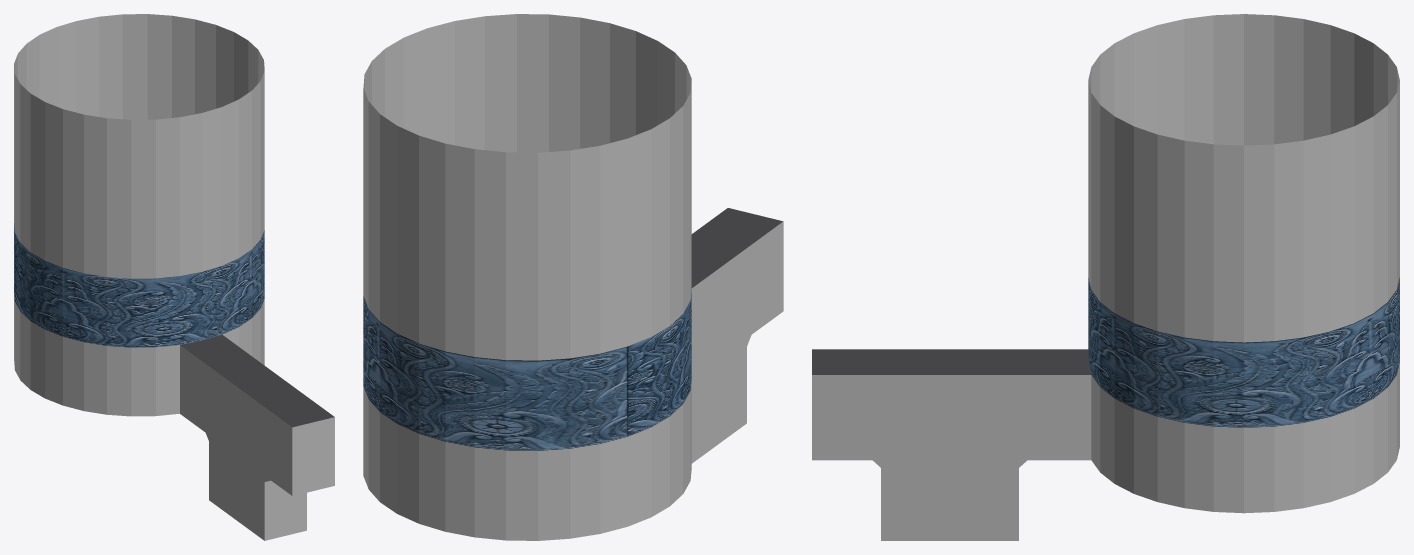
The model's file is level1_walls.fbx.
3 renders of one model, left to right at view 1: azimuth 30°, elevation 25°; view 2: azimuth 150°, elevation 25°; view 3: azimuth 270°, elevation 25°, orthographic. The views are drawn at different scales.
Parts seen in each view (by area): view 1: Sphere; view 2: Sphere; view 3: Sphere.
Boxes of the visible parts, x1=… form: Sphere: x1=14, y1=14, x2=334, y2=540; Sphere: x1=363, y1=14, x2=783, y2=540; Sphere: x1=812, y1=14, x2=1399, y2=540.
Size of the model in its own units: 5.59 by 8.88 by 10.55.
Materials: 2 (1 with a texture image).
